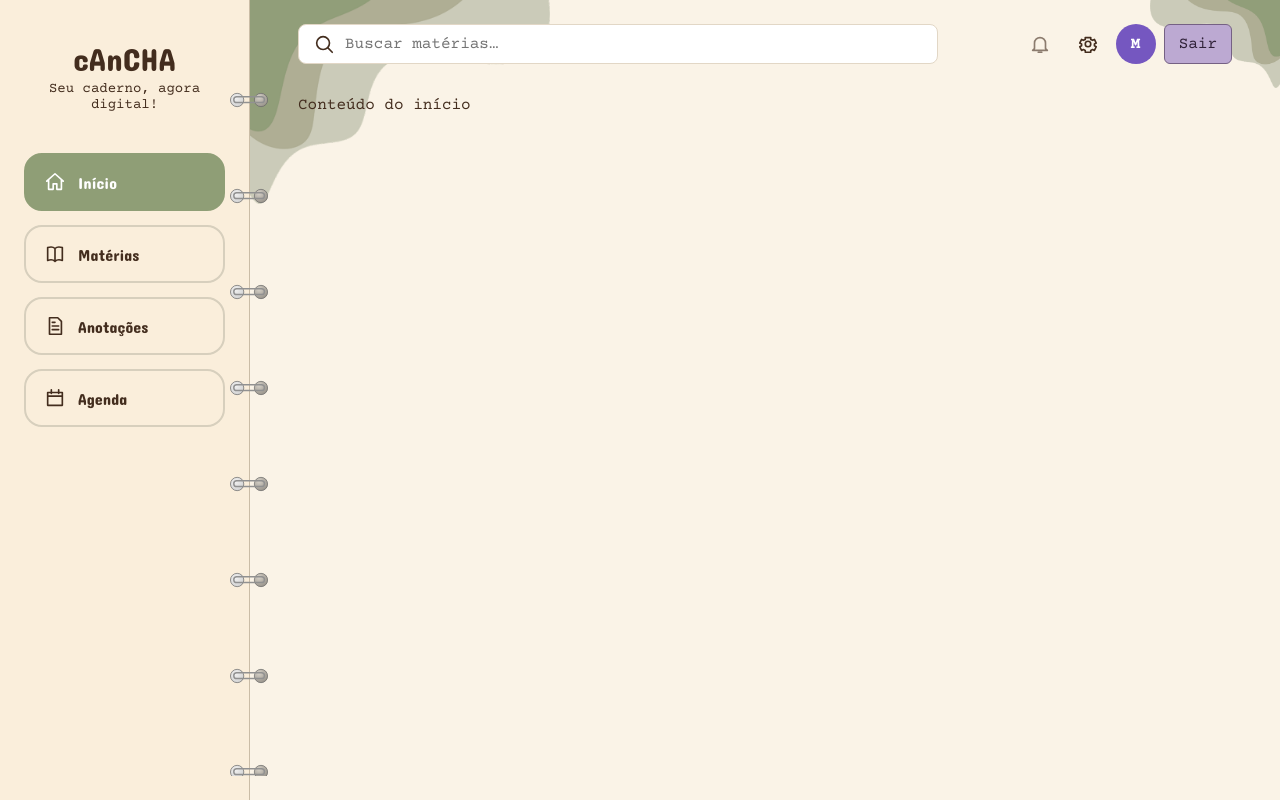
Test: Layout base › leva a busca do topo para as matérias e deixa as notificações "em breve"
The width and height of the screenshot is (1280, 800).
Step 1. Type "comp" into the search field labelled "Buscar matérias…" → (633, 44), box [343,34,923,54]
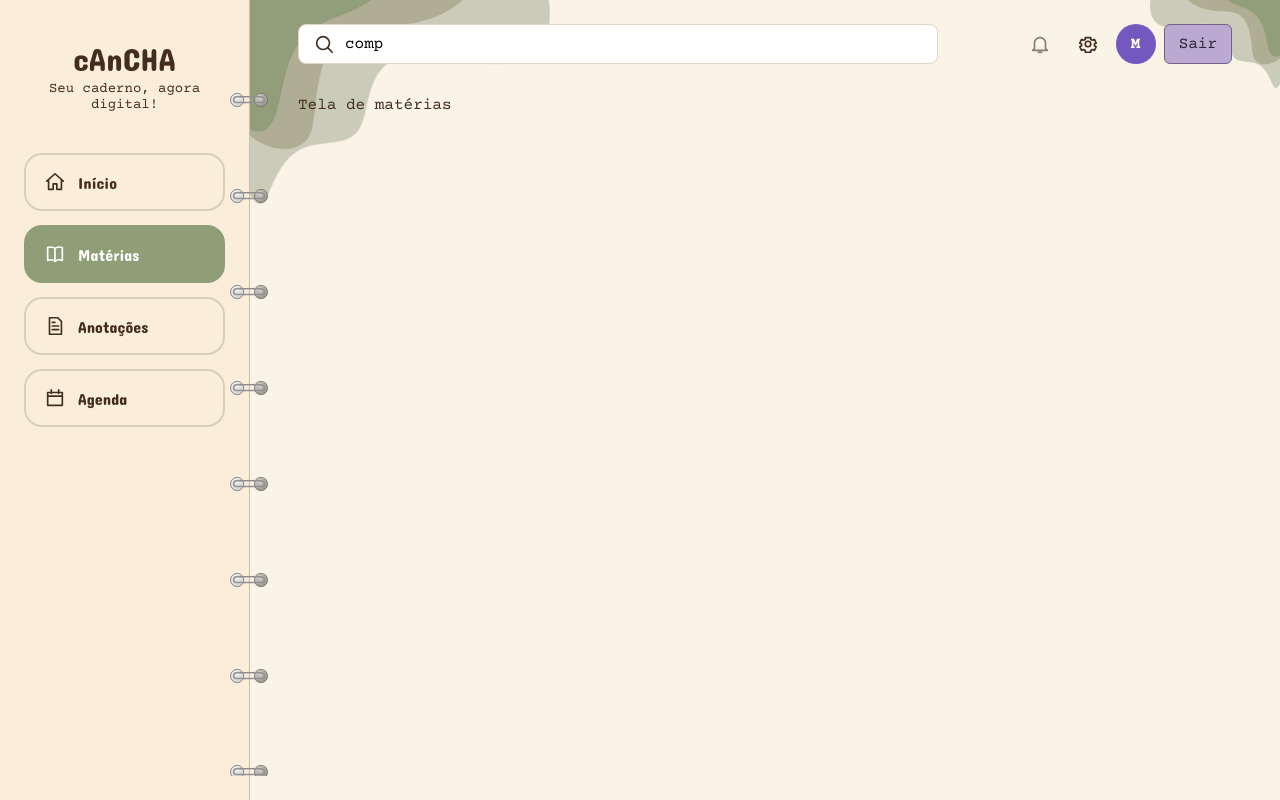
Expected: the button named "Notificações" is disabled, [1020,24,1060,64]
Expected: the text "Tela de matérias" is shown, [298,96,452,114]
